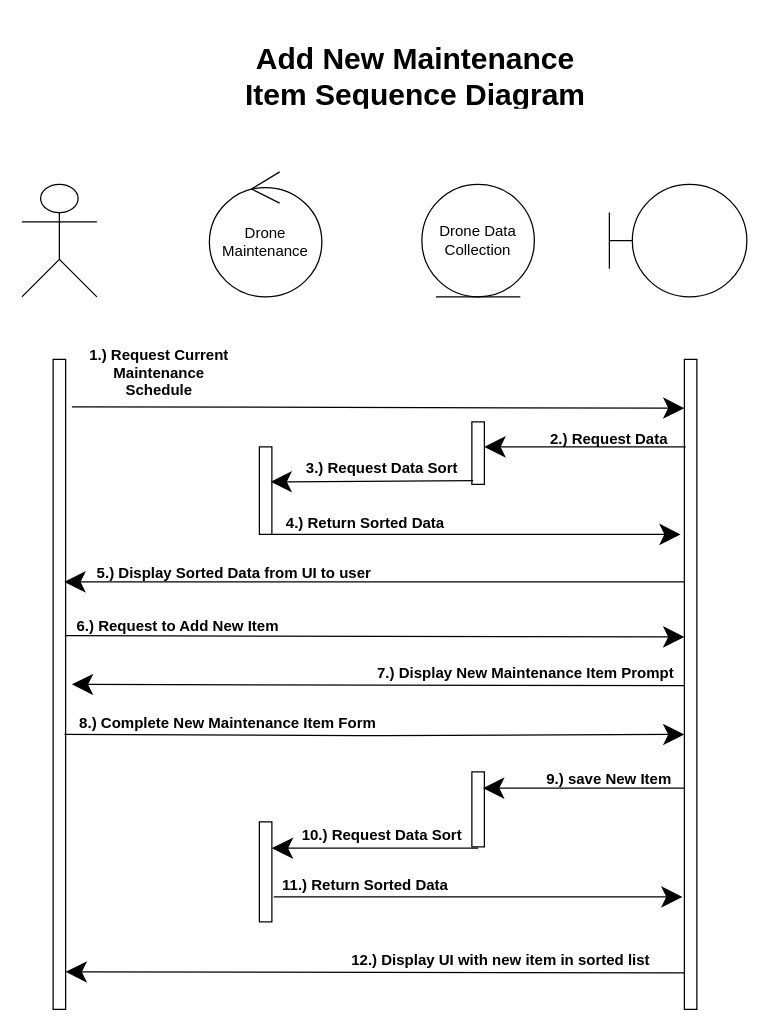
This 769x1031 diagram has some shape labels left out. Each missing label, with the centre of its shape:
"Actor" goes at [59,240].
"User Interface" goes at [677,240].
